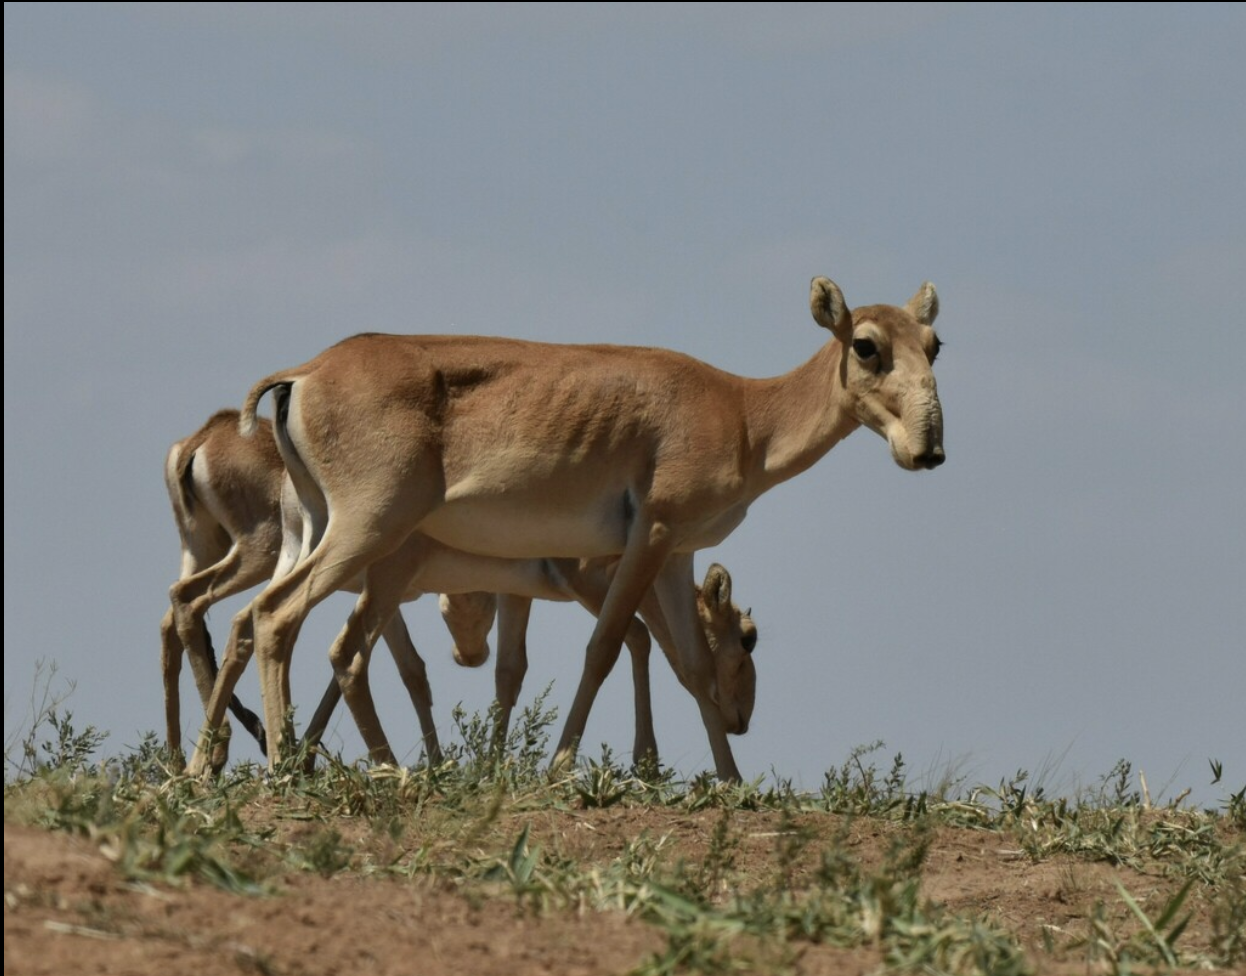saiga: (238, 263, 960, 775)
